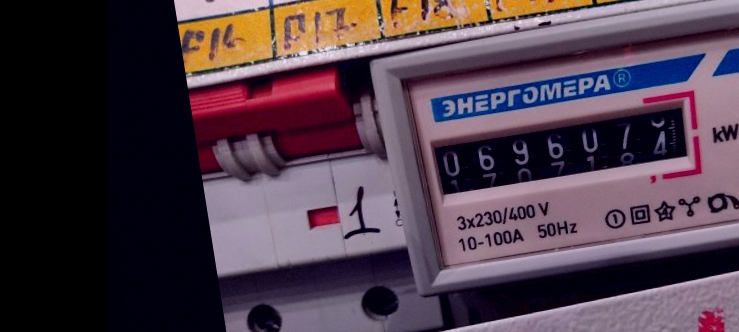0: (439, 146, 464, 179), (579, 124, 602, 155)
4: (647, 128, 671, 160)
6: (543, 129, 568, 163), (474, 141, 498, 173)
7: (613, 117, 636, 151)
9: (509, 136, 533, 167)
screen: (417, 83, 711, 218)
